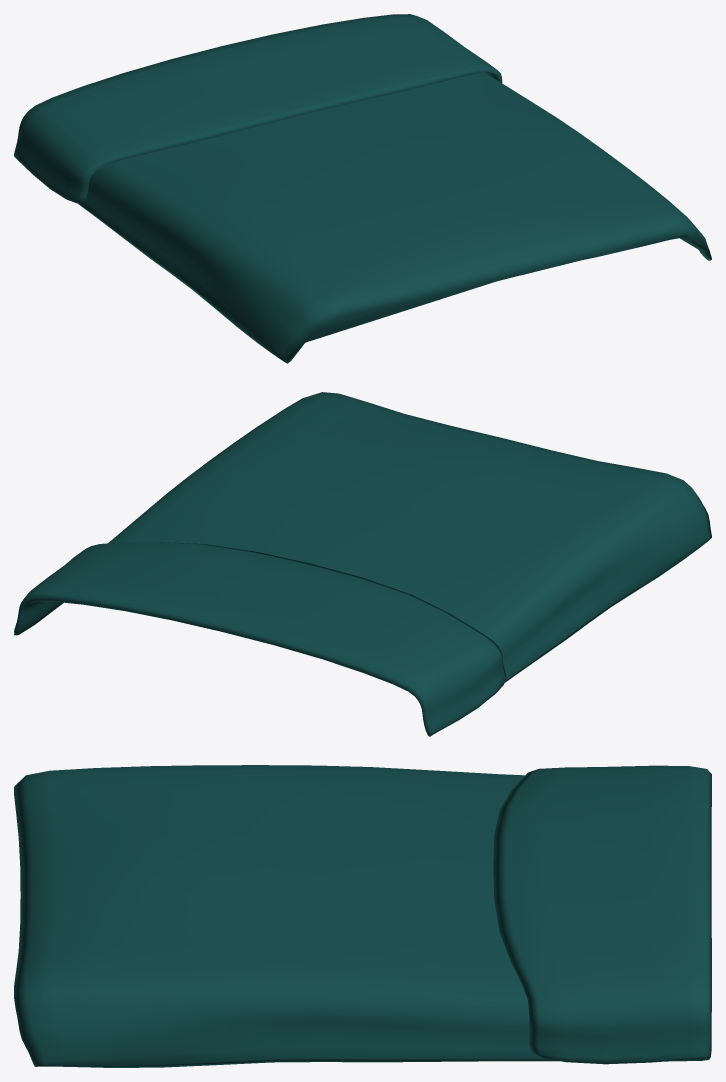
File: bed_2 bedsheet2.fbx
The picture shows the model from 3 angles, top to bottom: view 1: azimuth 30°, elevation 25°; view 2: azimuth 150°, elevation 25°; view 3: azimuth 270°, elevation 25°; orthographic projection. The views are drawn at different scales.
Visible parts, largest first — view 1: bed_2 bedsheet2; view 2: bed_2 bedsheet2; view 3: bed_2 bedsheet2.
Boxes of the visible parts, x1,y1,x2,y2 form: bed_2 bedsheet2: [14, 14, 711, 363]; bed_2 bedsheet2: [14, 392, 711, 736]; bed_2 bedsheet2: [14, 765, 711, 1067].
Size of the model in its own units: 1.92 by 0.2885 by 2.21.
